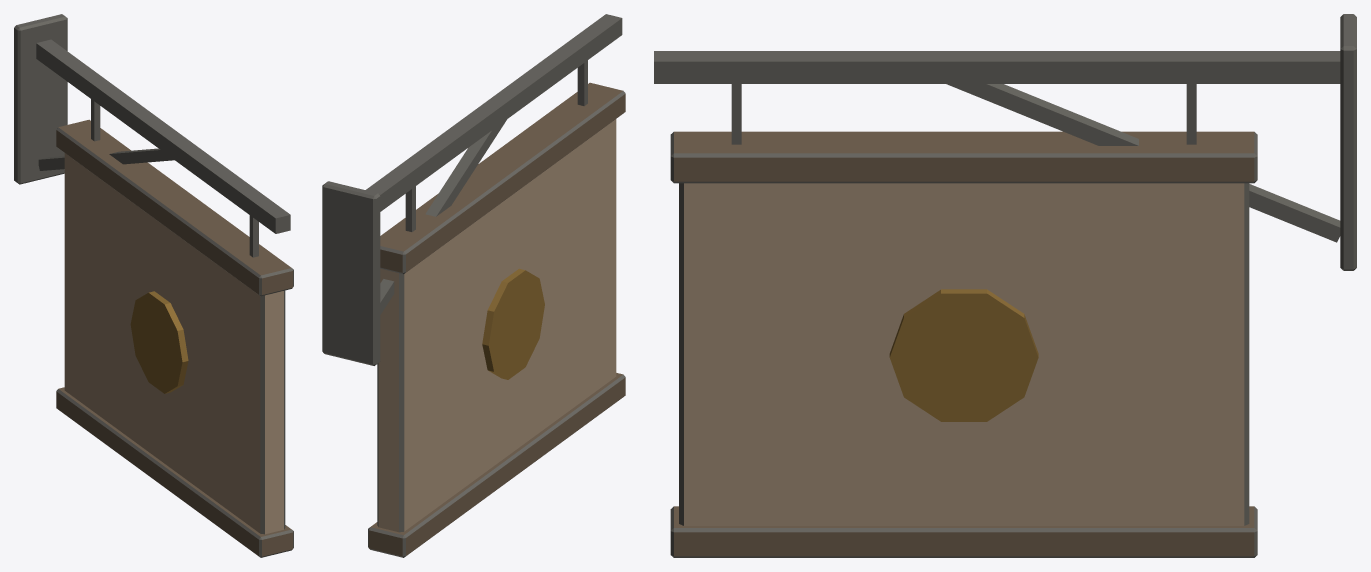
File: shop_sign.glb
The picture shows the model from 3 angles, left to right: view 1: azimuth 30°, elevation 25°; view 2: azimuth 150°, elevation 25°; view 3: azimuth 270°, elevation 25°; orthographic projection. The views are drawn at different scales.
Parts seen in each view (by area): view 1: Shop_Sign; view 2: Shop_Sign; view 3: Shop_Sign.
Boxes of the visible parts, left/top/right/bottom form: Shop_Sign: left=14, top=14, right=293, bottom=557; Shop_Sign: left=322, top=14, right=625, bottom=557; Shop_Sign: left=654, top=14, right=1356, bottom=557.
Bounding box in the file's own units: 0.1 × 0.69 × 0.85.
